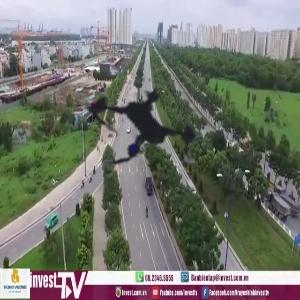drone: (33, 14, 257, 238)
